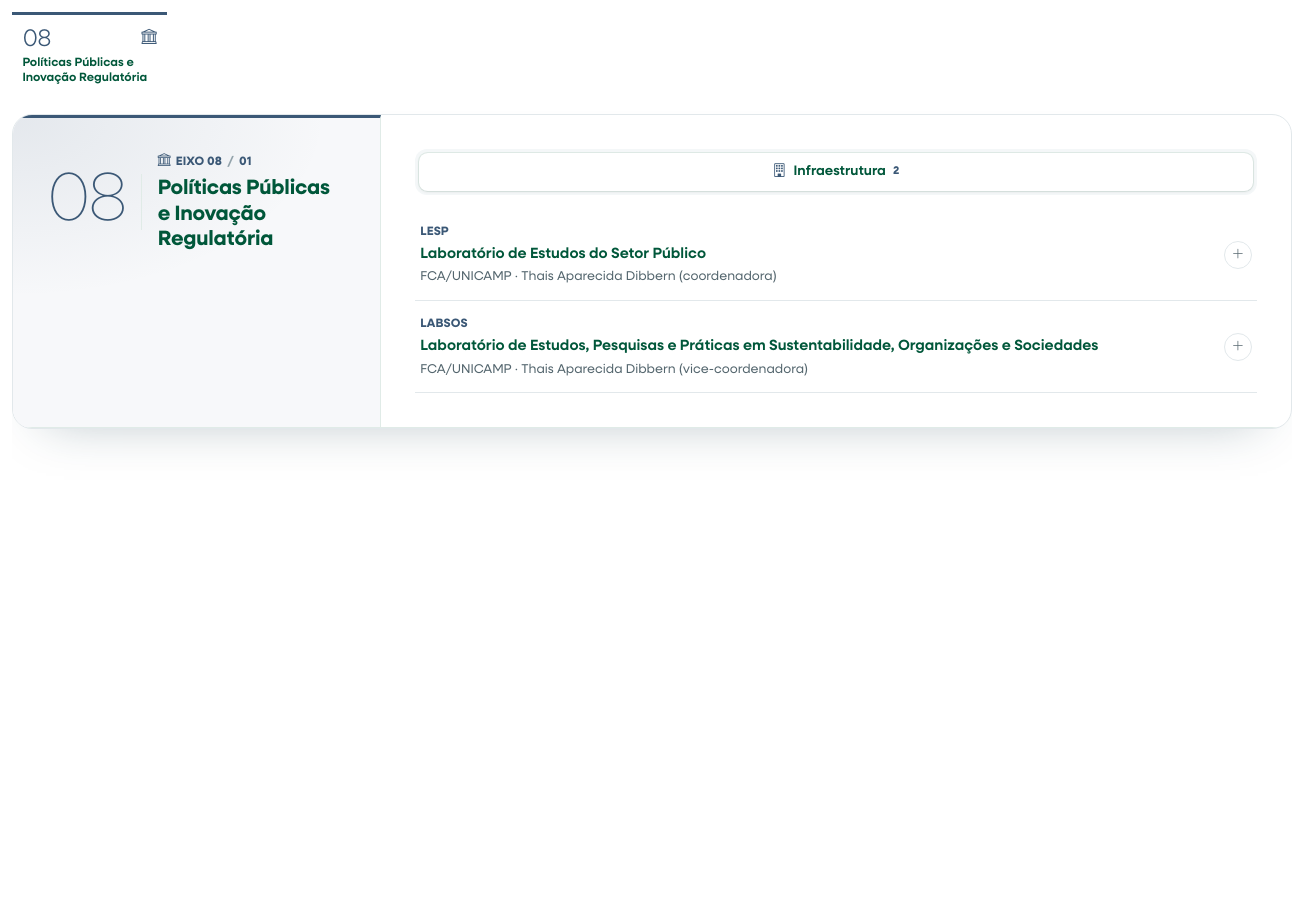
it: AxisExplorer › lists the Axis 8 public policy labs (LESP, LABSOS) under Infrastructure, with their mission
The width and height of the screenshot is (1292, 912).
What coordinates should you click on to do the following:
click the button "Laboratório de Estudos do Setor Público"
I would click on:
 (563, 254)
Its box is x1=415 y1=209 x2=1257 y2=300.
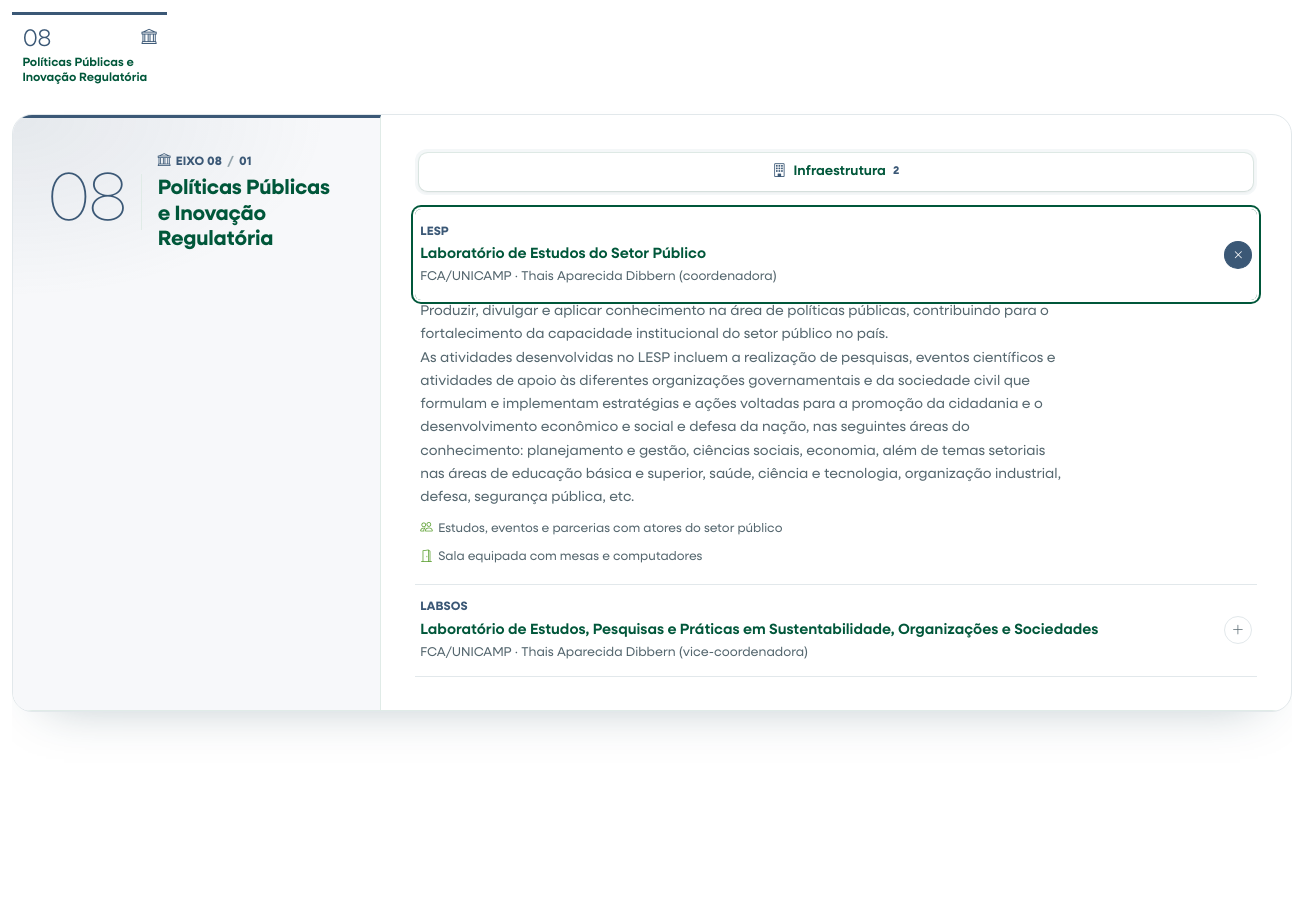
Expected: the element with class "axx-row__body" shows "Produzir, divulgar e aplicar conhecimento", x1=420 y1=304 x2=1049 y2=342
